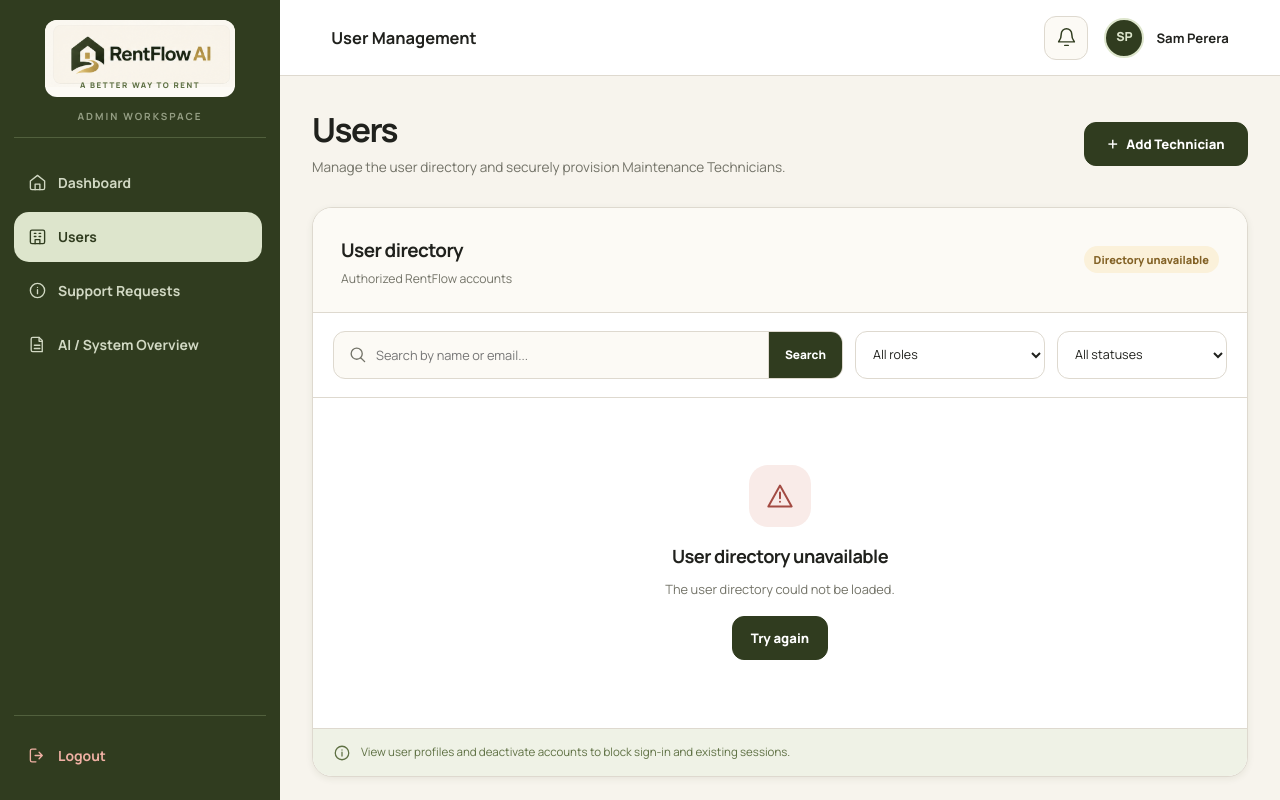
Scenario: Admin Users directory › clears stale rows on error and retries the authorized request
This screenshot has width=1280, height=800.
Expected: the heading "User directory unavailable" is shown, [672,544,888,568]
Expected: the message does not show "internal trace", [665,465,895,660]
Click the button "Try again" at [780, 638], box [732,616,828,660]
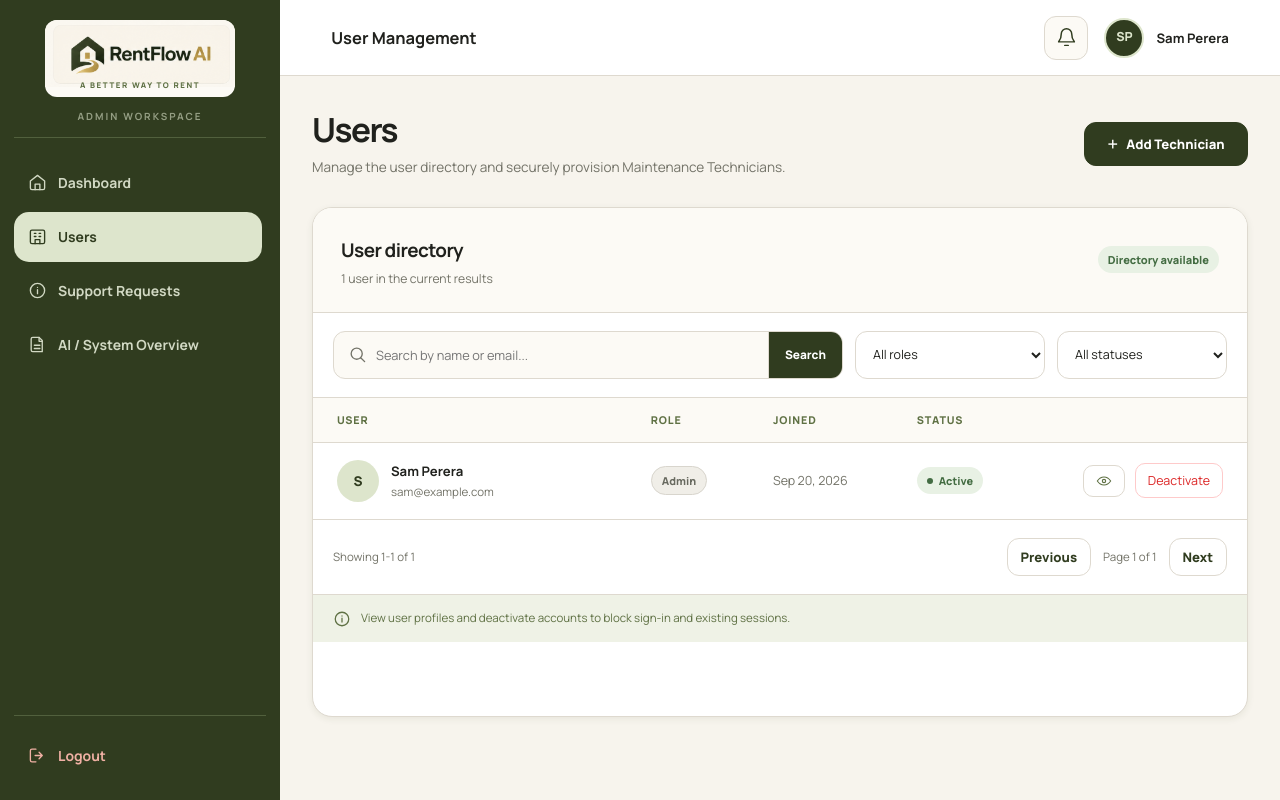
Now the text "Sam Perera" in the row of "Sep 20, 2026" is shown, box [391,462,463,480]
